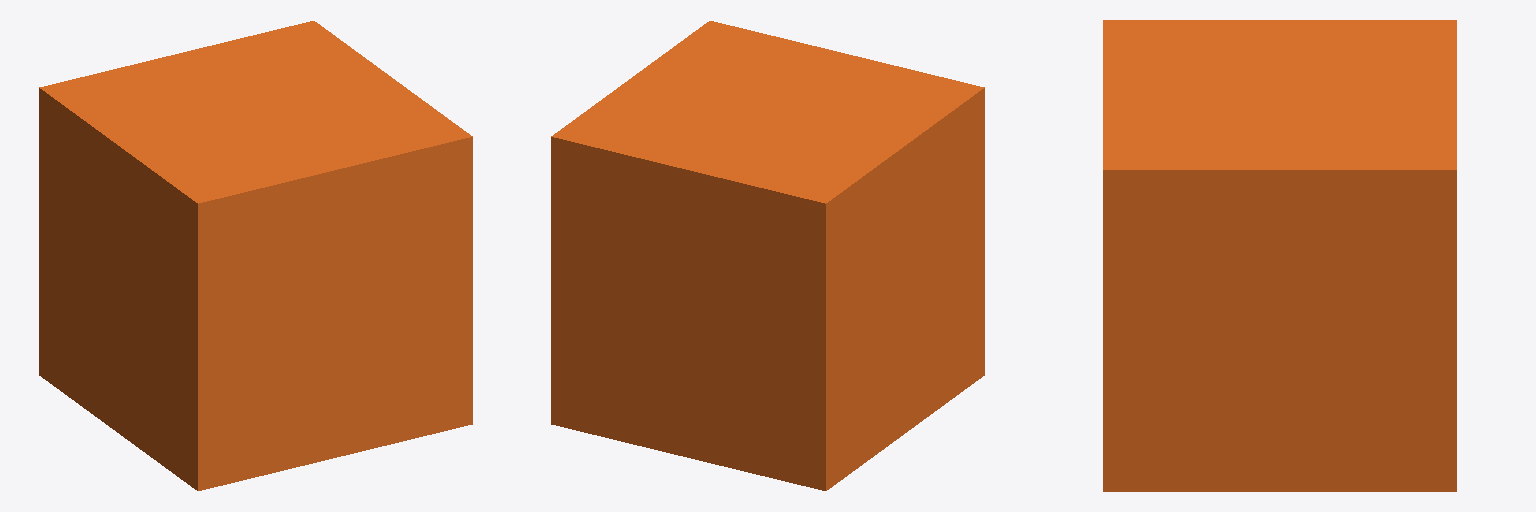
robot.urdf — cube:
<?xml version="1.0" ?>
<robot name="cube">
    <material name="red">
        <color rgba="0.69 0.09 0.12 1"/>
    </material>
    <material name="green">
        <color rgba="0.0 0.69 0.2 1"/>
    </material>
    <material name="blue">
        <color rgba="0.1 0.1 0.69 1"/>
    </material>
    <material name="yellow">
        <color rgba="0.8 0.8 0.0 1"/>
    </material>
    <material name="purple">
        <color rgba="0.69 0.1 0.69 1"/>
    </material>
    <material name="cyan">
        <color rgba="0.0 0.69 0.69 1"/>
    </material>
    <material name="orange">
        <color rgba="0.95 0.5 0.2 1"/>
    </material>
    <material name="pink">
        <color rgba="1 0.75 0.8 1"/>
    </material>

    <link name="cube_link">
        <contact>
          <lateral_friction value="1"/>
          <rolling_friction value="1"/>
          <spinning_friction value="1"/>

          <inertia_scaling value="0.5"/>
        </contact>
        <inertial>
          <origin rpy="0 0 0" xyz="0 0 0"/>
           <mass value="3"/>
           <inertia ixx="0.0" ixy="0.0" ixz="0.0" iyy="0.0" iyz="0.0" izz="0.0"/>
        </inertial>
        <visual>
          <origin rpy="0 0 0" xyz="0 0 0"/>
          <geometry>
            <box size=".06 .06 .06"/>
          </geometry>
          <material name="orange" />
        </visual>
        <collision>
          <origin rpy="0 0 0" xyz="0 0 0"/>
          <geometry>
            <box size=".06 .06 .06"/>
          </geometry>
        </collision>
    </link>

</robot>

--- Render facts (derived) ---
The picture shows the robot from 3 angles, left to right: view 1: azimuth 30°, elevation 25°; view 2: azimuth 150°, elevation 25°; view 3: azimuth 270°, elevation 25°; orthographic projection.
Robot: cube — 1 links, 0 joints (none); root link cube_link; default pose: every joint at zero.
Links seen in each view (by area): view 1: cube_link; view 2: cube_link; view 3: cube_link.
Boxes of the visible links, left/top/right/bottom form: cube_link: left=39, top=21, right=472, bottom=490; cube_link: left=551, top=21, right=984, bottom=490; cube_link: left=1103, top=20, right=1456, bottom=491.
Size in the robot's own frame: 0.06 by 0.06 by 0.06 metres.
Geometry: primitives only (box / cylinder / sphere), no mesh files.